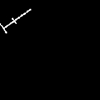double_crochet: (0, 9, 30, 32)
